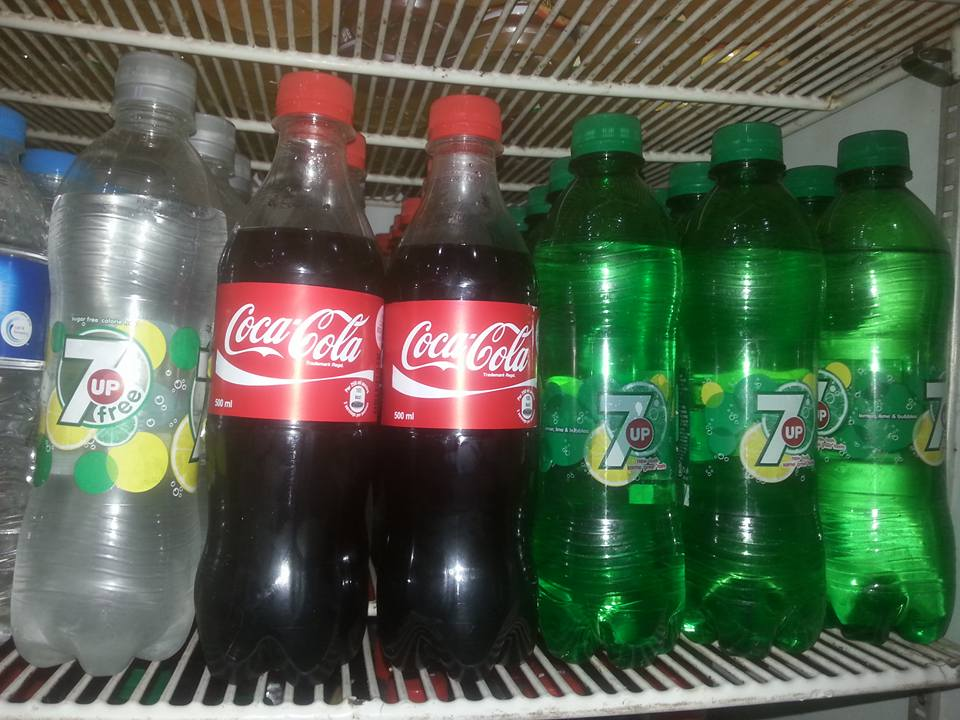7up: (57, 329, 152, 437), (593, 387, 665, 472), (751, 391, 808, 470)
cocacola: (224, 303, 373, 380), (393, 317, 532, 391)
